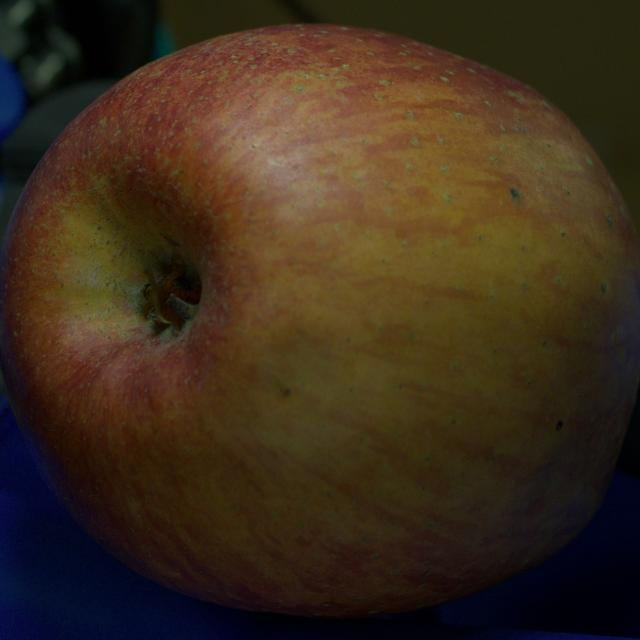apple: (0, 24, 639, 617)
pest: (511, 189, 521, 201), (556, 421, 563, 429)
